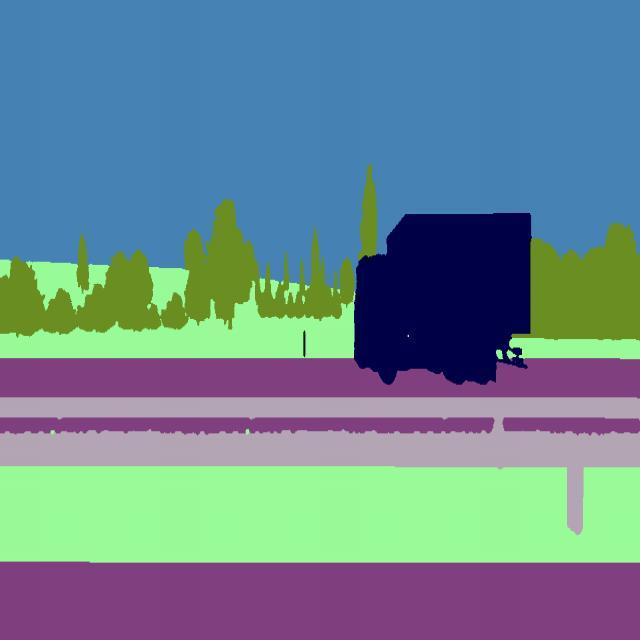safe: (352, 213, 532, 389)
